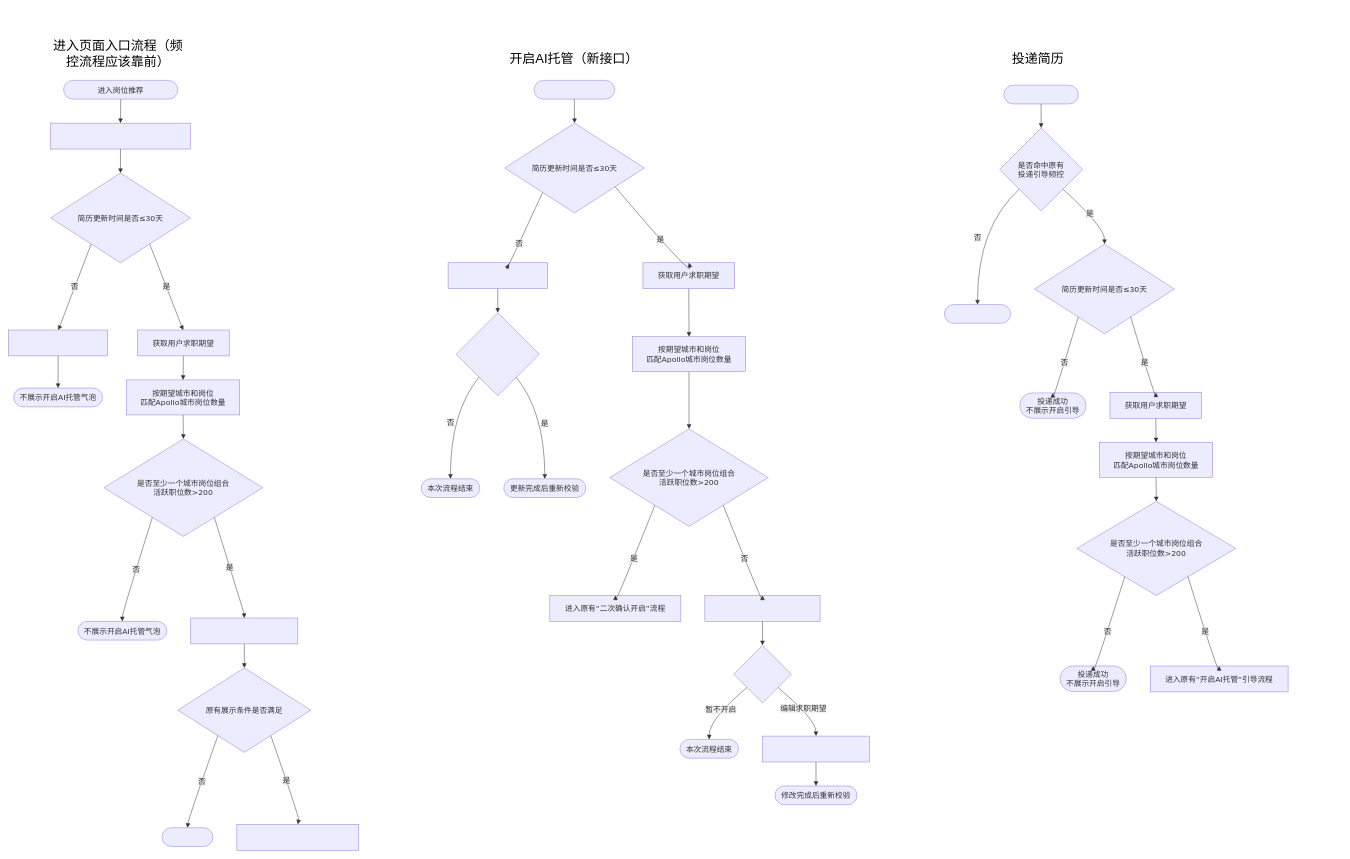
Some shapes in this 1350 by 859 pixel diagram are drawn without their labels. Here are the shapes that lost their labels. From the top down, the box of each, then its label:
(534, 80, 615, 99): 用户点击开启AI托管
(1003, 85, 1078, 104): 用户手动投递成功
(50, 123, 190, 149): 调用 getAutoDeliveryGuideState
(448, 262, 547, 289): 展示“更新简历”弹窗
(944, 304, 1011, 323): 不展示开启引导
(8, 330, 108, 356): 展示“更新简历”引导
(456, 312, 539, 396): 是否更新简历
(704, 595, 820, 621): 展示“匹配机会较少”弹窗
(190, 618, 298, 644): 进入原有气泡频控流程
(733, 645, 791, 703): 用户选择
(762, 736, 870, 762): 跳转求职期望编辑页面
(162, 827, 213, 846): 不展示气泡
(236, 824, 359, 850): 展示“开启AI自动求职”气泡
